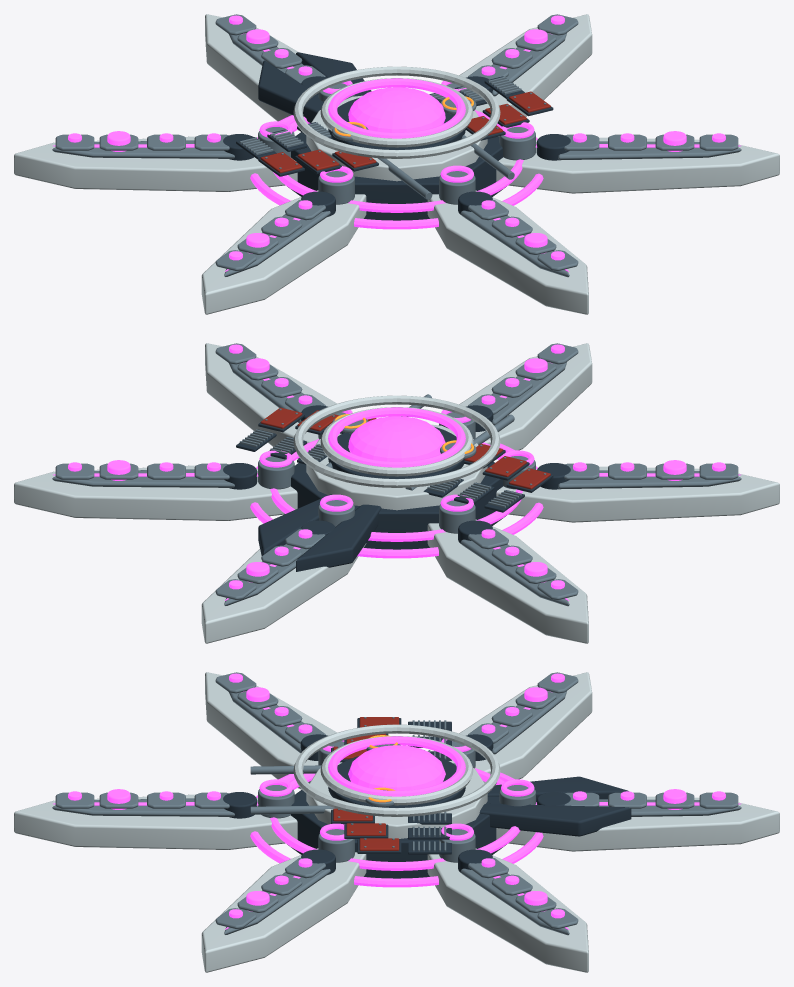
File: Seraph.fbx
The picture shows the model from 3 angles, top to bottom: view 1: azimuth 30°, elevation 25°; view 2: azimuth 150°, elevation 25°; view 3: azimuth 270°, elevation 25°; orthographic projection.
Parts seen in each view (by area): view 1: Seraph feather 5.002, Seraph feather 2.002, Seraph feather 3.002, Seraph feather 4.002, Nested containment halo.005, Hexagonal core vessel.002, Violet singularity.002, Seraph feather 0.002, Seraph feather 1.002, Core armored crown.002, Orbital conduit.006, Nested containment halo.004 (+18 smaller); view 2: Seraph feather 0.002, Seraph feather 3.002, Seraph feather 2.002, Seraph feather 1.002, Nested containment halo.005, Seraph feather 4.002, Seraph feather 5.002, Violet singularity.002, Hexagonal core vessel.002, Core armored crown.002, Core forward fang.004, Orbital conduit.006 (+20 smaller); view 3: Seraph feather 4.002, Seraph feather 5.002, Seraph feather 1.002, Seraph feather 0.002, Seraph feather 2.002, Nested containment halo.005, Seraph feather 3.002, Core forward fang.005, Violet singularity.002, Hexagonal core vessel.002, Orbital conduit.006, Core armored crown.002 (+21 smaller).
Part boxes in pixels (left/top/right/bottom): Seraph feather 5.002: left=496, top=137, right=779, bottom=193; Seraph feather 2.002: left=14, top=136, right=297, bottom=191; Seraph feather 3.002: left=201, top=190, right=366, bottom=314; Seraph feather 4.002: left=427, top=190, right=588, bottom=314; Nested containment halo.005: left=293, top=66, right=500, bottom=158; Hexagonal core vessel.002: left=287, top=132, right=506, bottom=220; Violet singularity.002: left=348, top=87, right=445, bottom=132; Seraph feather 0.002: left=459, top=14, right=592, bottom=116; Seraph feather 1.002: left=205, top=14, right=299, bottom=130; Core armored crown.002: left=306, top=95, right=487, bottom=181; Orbital conduit.006: left=328, top=78, right=465, bottom=138; Nested containment halo.004: left=320, top=78, right=473, bottom=147; Seraph feather 0.002: left=14, top=465, right=297, bottom=520; Seraph feather 3.002: left=496, top=466, right=779, bottom=522; Seraph feather 2.002: left=427, top=519, right=588, bottom=643; Seraph feather 1.002: left=201, top=543, right=366, bottom=643; Nested containment halo.005: left=293, top=395, right=500, bottom=487; Seraph feather 4.002: left=459, top=343, right=592, bottom=459; Seraph feather 5.002: left=205, top=343, right=336, bottom=458; Violet singularity.002: left=348, top=416, right=445, bottom=461; Hexagonal core vessel.002: left=291, top=461, right=506, bottom=549; Core armored crown.002: left=306, top=424, right=487, bottom=510; Core forward fang.004: left=296, top=504, right=381, bottom=571; Orbital conduit.006: left=328, top=407, right=465, bottom=467; Seraph feather 4.002: left=14, top=794, right=297, bottom=849; Seraph feather 5.002: left=201, top=848, right=366, bottom=972; Seraph feather 1.002: left=496, top=796, right=779, bottom=851; Seraph feather 0.002: left=427, top=848, right=588, bottom=972; Seraph feather 2.002: left=459, top=672, right=592, bottom=783; Nested containment halo.005: left=293, top=724, right=500, bottom=816; Seraph feather 3.002: left=205, top=672, right=336, bottom=789; Core forward fang.005: left=479, top=803, right=631, bottom=836; Violet singularity.002: left=348, top=745, right=445, bottom=790; Hexagonal core vessel.002: left=287, top=790, right=506, bottom=878; Orbital conduit.006: left=328, top=736, right=465, bottom=796; Core armored crown.002: left=306, top=760, right=487, bottom=838.
Size of the model in its own units: 907 by 137 by 1047.
